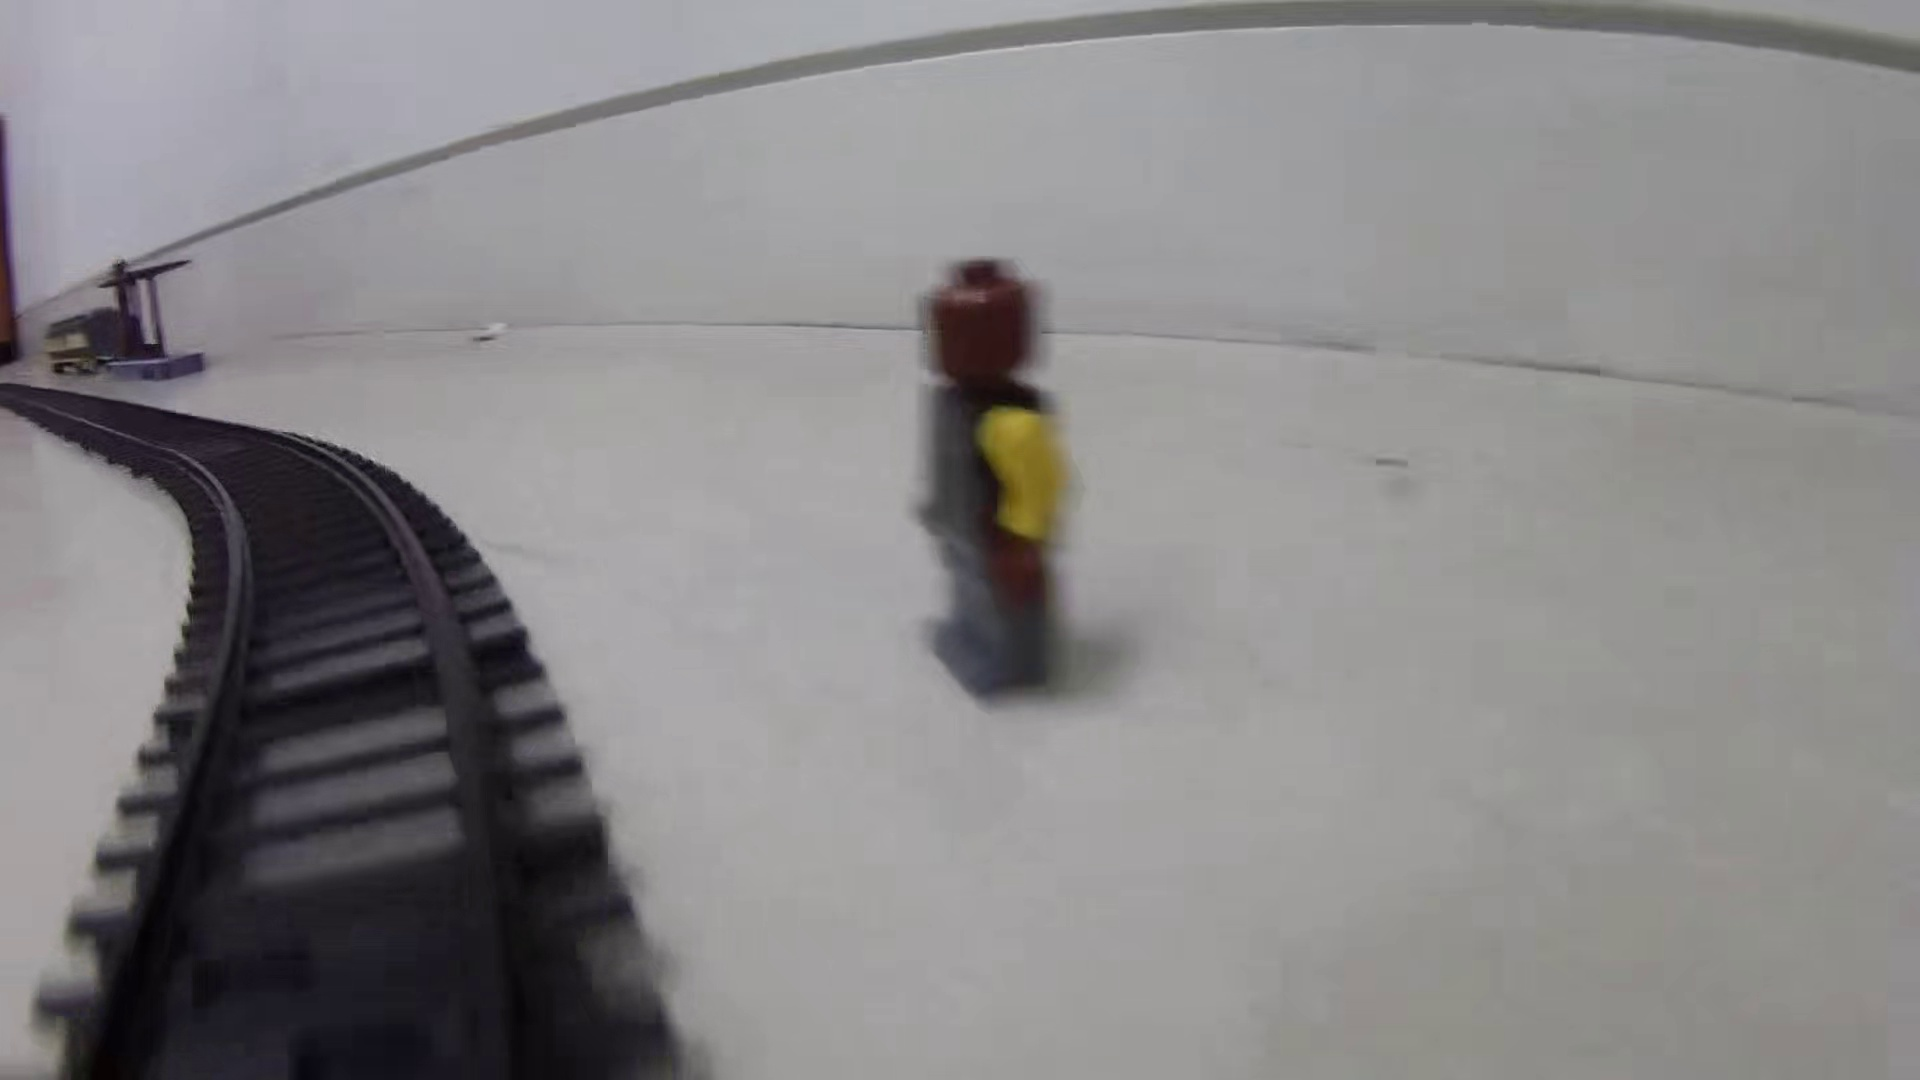people: (908, 251, 1073, 706)
